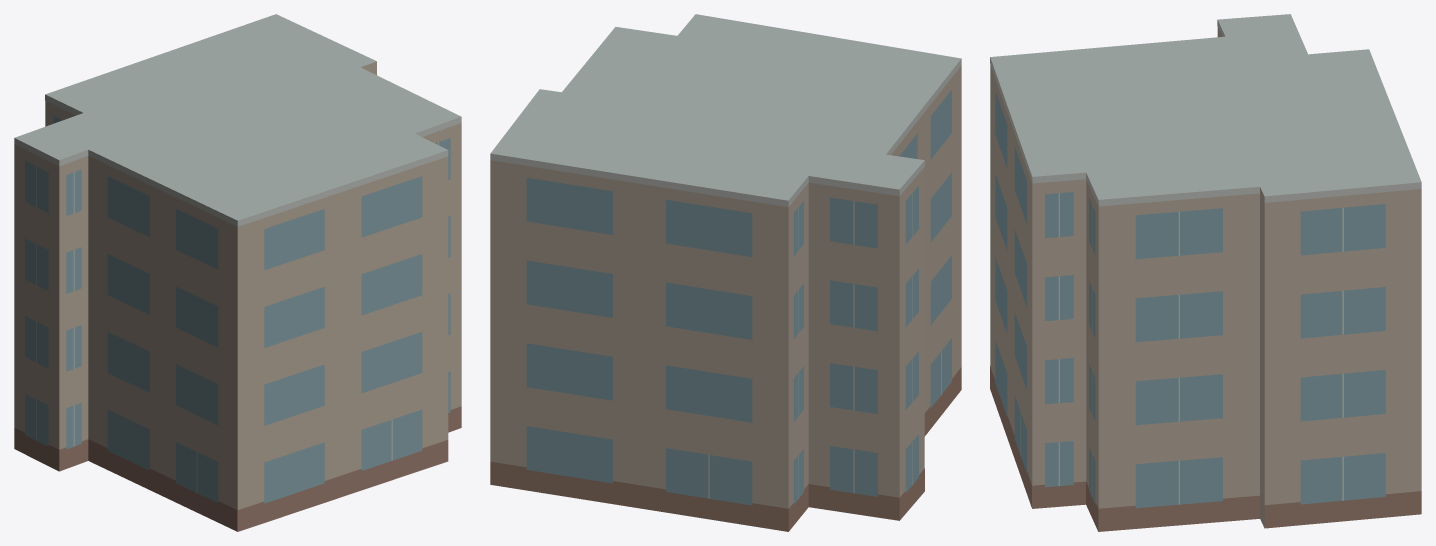
File: survey-upis-33033964.glb
The picture shows the model from 3 angles, left to right: view 1: azimuth 30°, elevation 25°; view 2: azimuth 150°, elevation 25°; view 3: azimuth 270°, elevation 25°; orthographic projection. The views are drawn at different scales.
Parts seen in each view (by area): view 1: survey-upis-33033964.tmp; view 2: survey-upis-33033964.tmp; view 3: survey-upis-33033964.tmp.
Part boxes in pixels (x1,y1,x2,y2): survey-upis-33033964.tmp: (14,14,461,531); survey-upis-33033964.tmp: (490,14,961,531); survey-upis-33033964.tmp: (990,14,1421,531).
Size of the model in its own units: 14.78 by 12.3 by 14.5.
